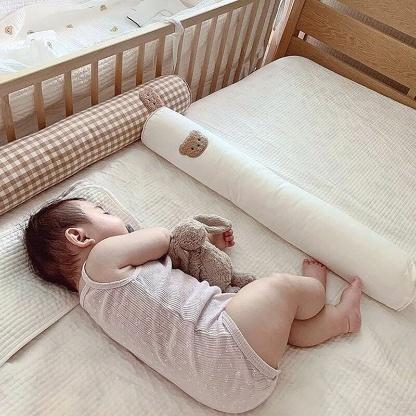baby: (24, 195, 363, 413)
